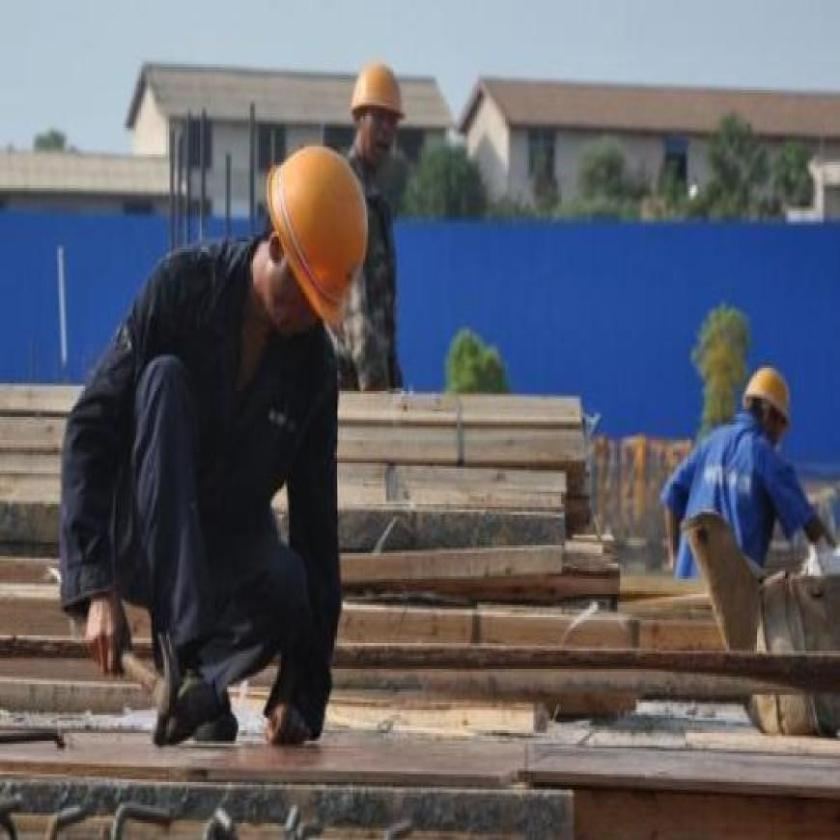Con_casco: (243, 142, 368, 343), (345, 59, 410, 189), (741, 365, 794, 449)
